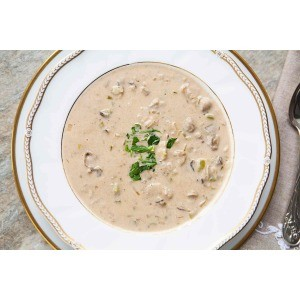oyster_brain food: (55, 83, 230, 221)
